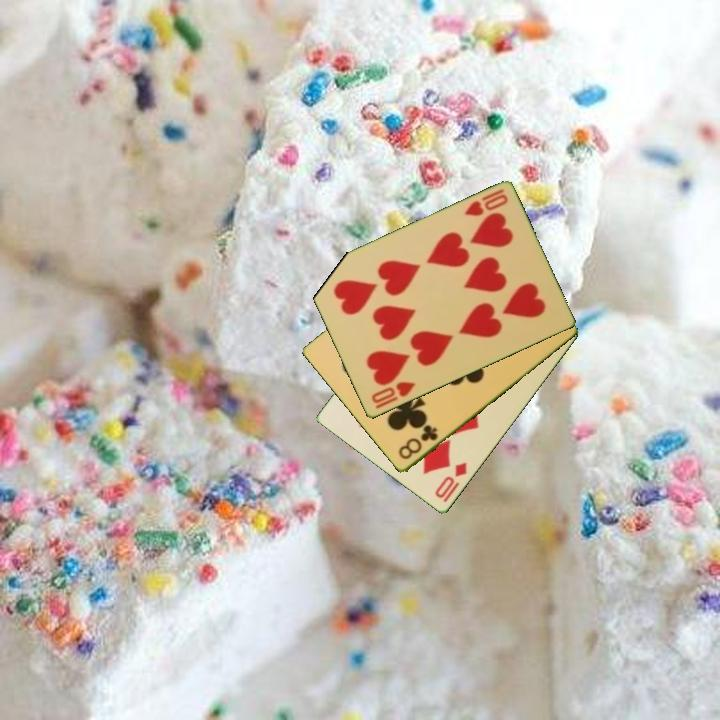10d: (431, 459, 470, 502)
10h: (461, 186, 511, 220), (367, 378, 418, 407)
8c: (395, 422, 441, 463)
